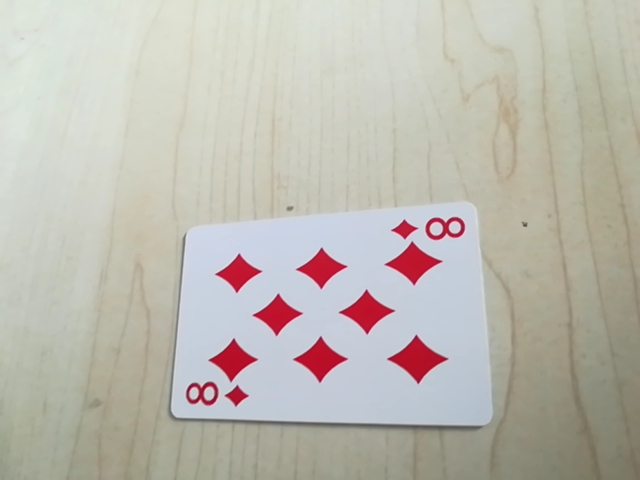fk 8: (387, 209, 471, 246), (180, 378, 253, 414)
